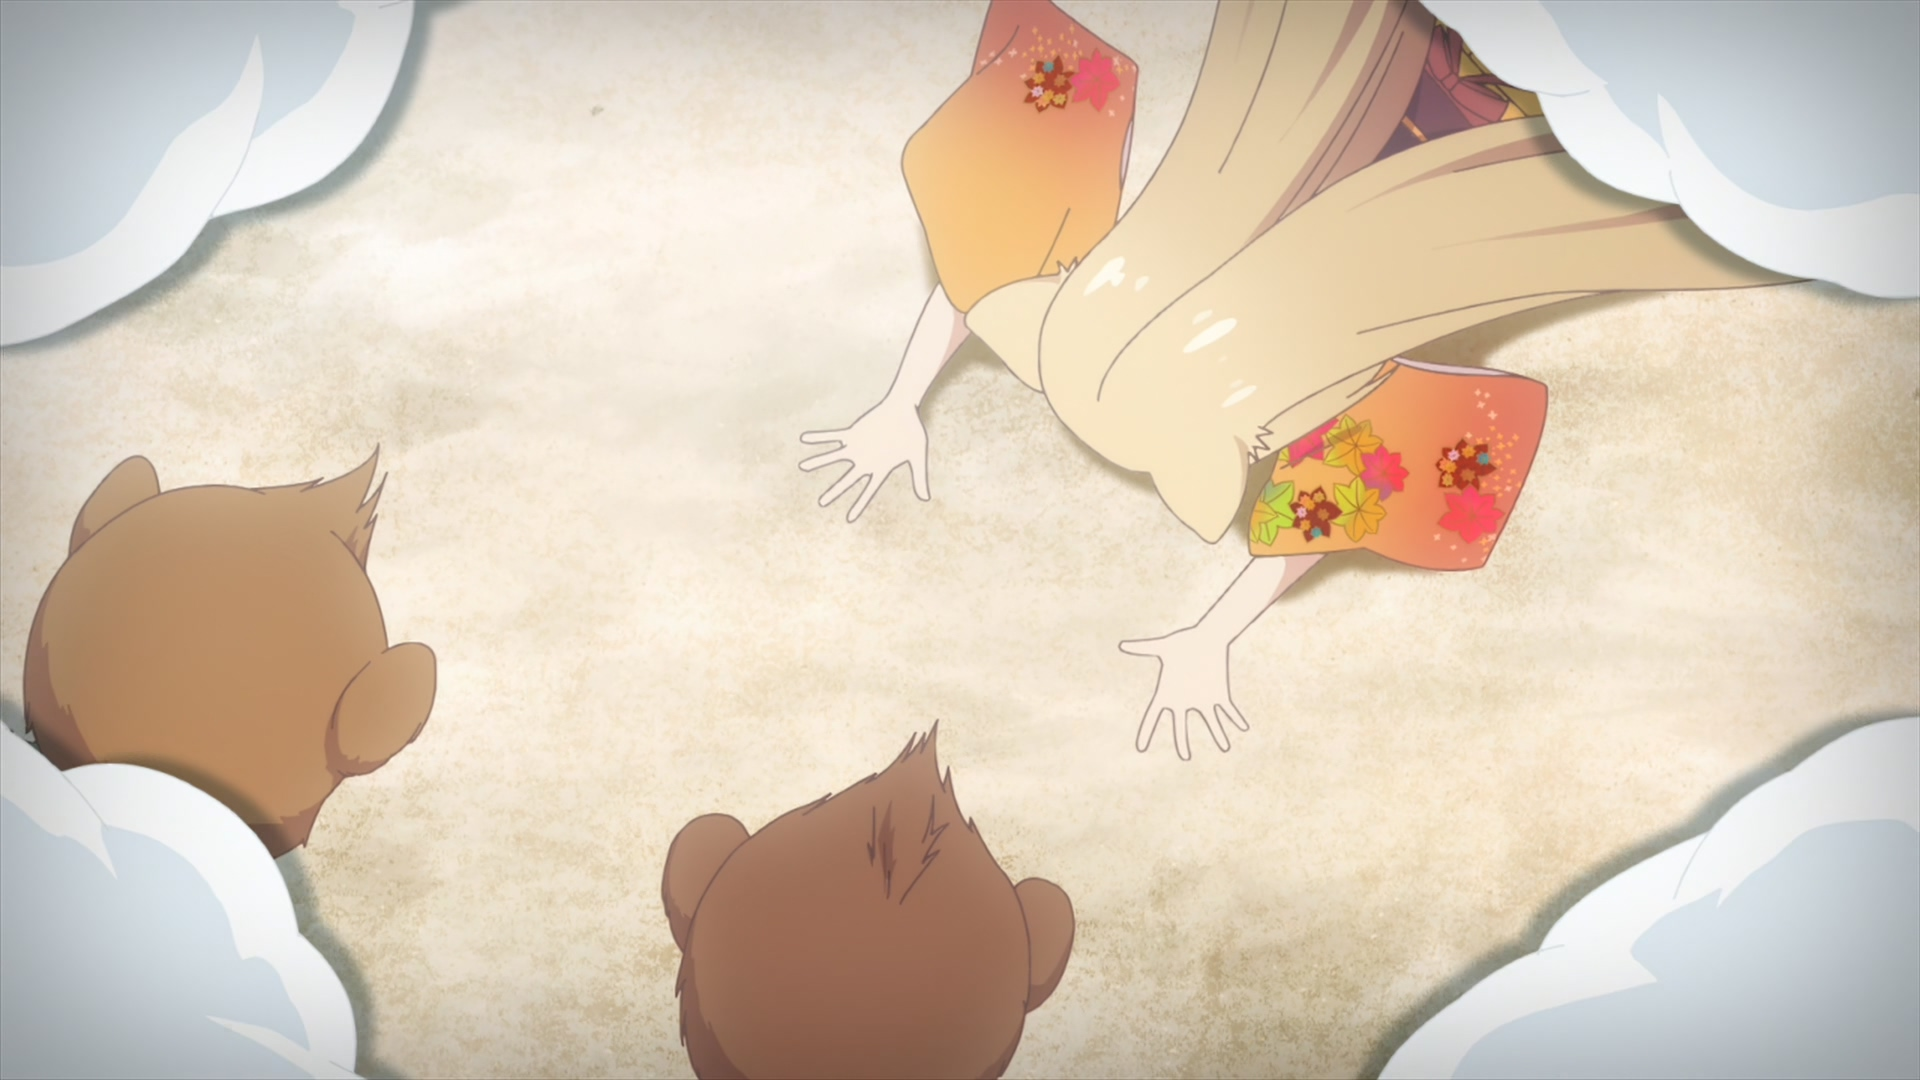其他: (22, 443, 436, 861), (659, 719, 1075, 1080)
柚: (800, 1, 1820, 761)
